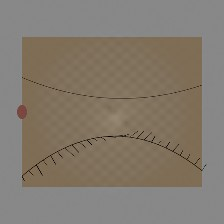pinguecula_lesion: (144, 100, 176, 125)
